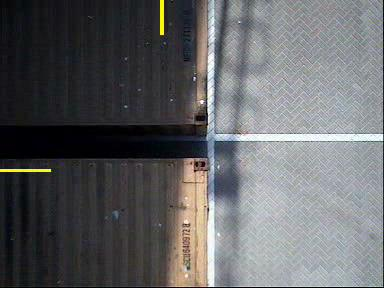groundmarker_2: (190, 40, 242, 123), (190, 213, 233, 281)
